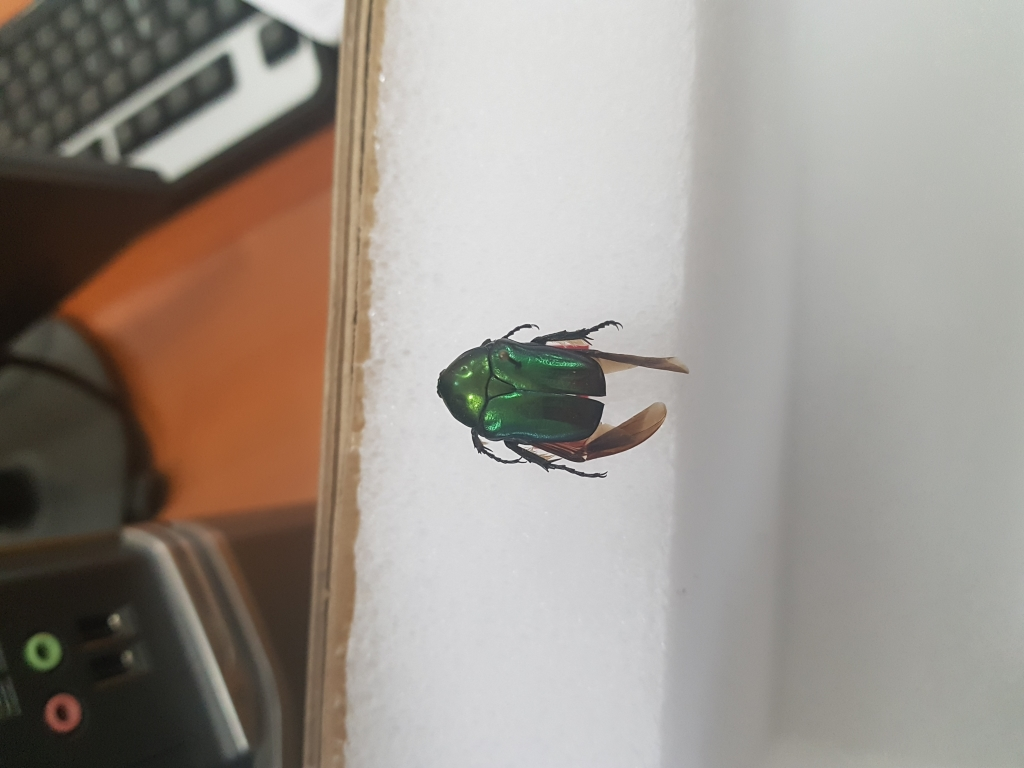Protaetia_besucheti: (434, 311, 695, 486)
